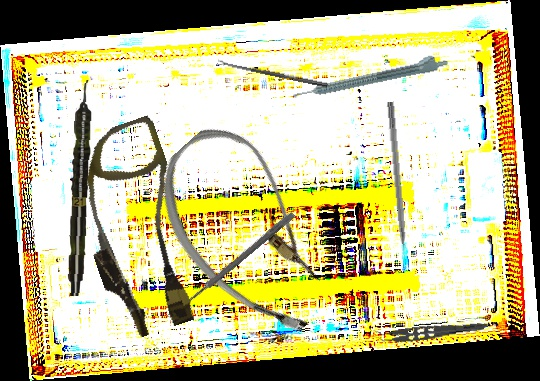Cannula: (131, 109, 368, 354), (55, 114, 219, 344)
Handpiece: (290, 50, 450, 102), (65, 79, 96, 297)
Pusher: (385, 101, 409, 272)
Surgical Spoon: (165, 210, 296, 322), (216, 59, 329, 88)
Tissue Forceps: (373, 313, 488, 347)
